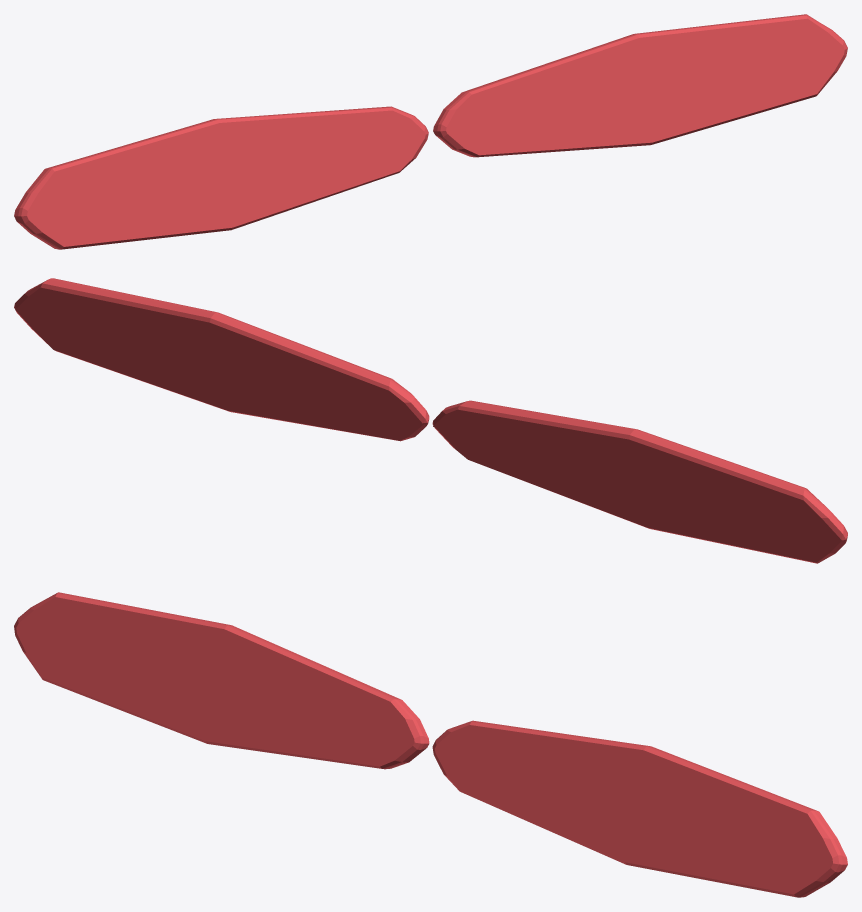
The model's file is Biplane_Propeller.fbx.
3 views of the same model, one above another, from view 1: azimuth 30°, elevation 25°; view 2: azimuth 150°, elevation 25°; view 3: azimuth 330°, elevation 25° (orthographic). The views are drawn at different scales.
Parts seen in each view (by area): view 1: Plane.001; view 2: Plane.001; view 3: Plane.001.
Part boxes in pixels (bbox=[...]): Plane.001: bbox=[14, 14, 847, 249]; Plane.001: bbox=[14, 278, 847, 563]; Plane.001: bbox=[14, 592, 847, 897].
Size of the model in its own units: 268 by 32.61 by 26.84.
